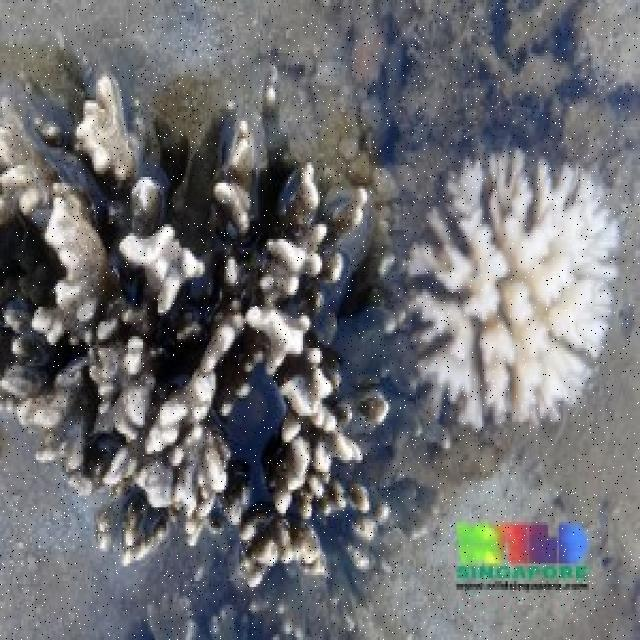Bleached: (5, 42, 396, 589), (418, 155, 615, 429)
Healthy: (361, 2, 635, 150)
